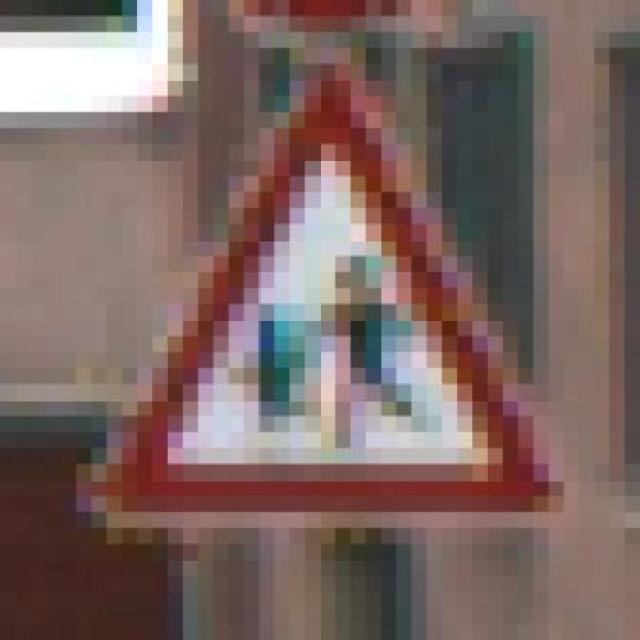Beware of children: (61, 48, 564, 528)
